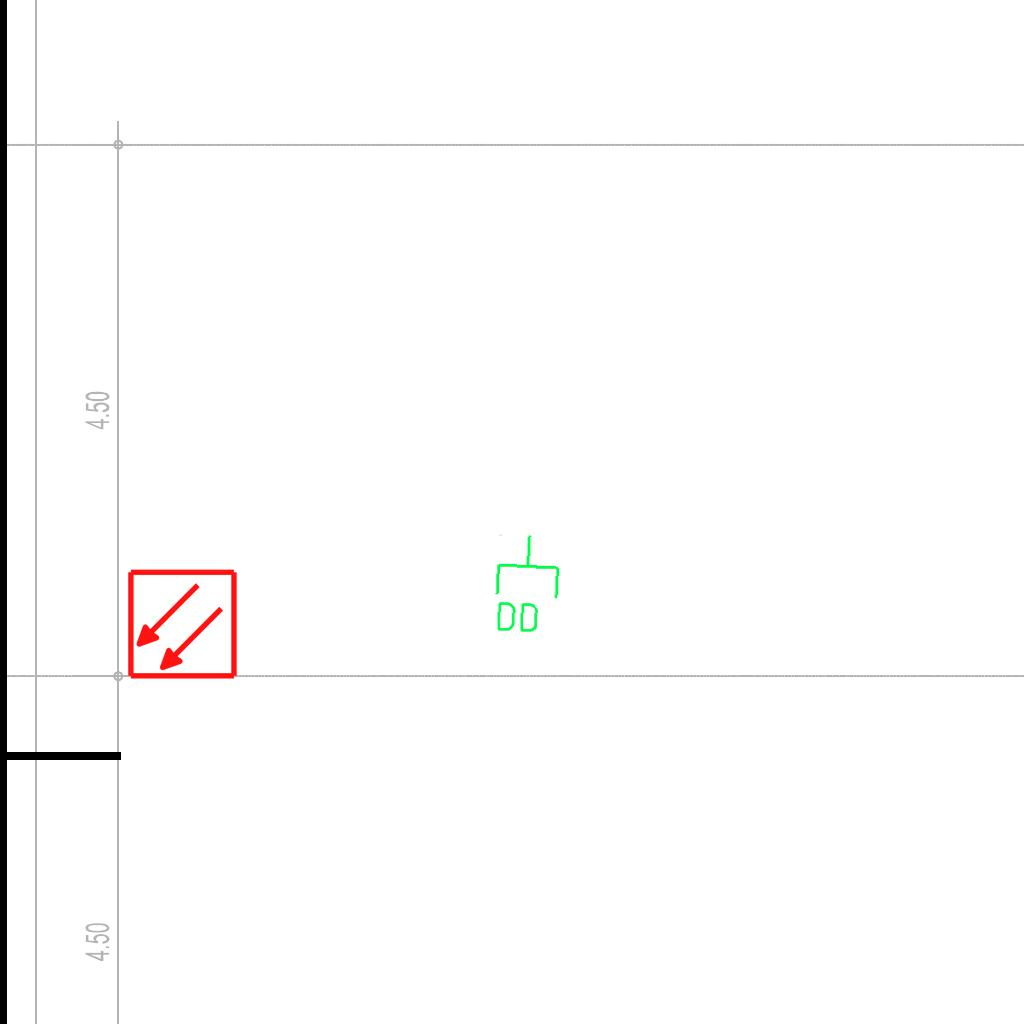Datenanschluss_zweifach: (489, 531, 564, 638)
RMO_Rauchmelder_optischer: (126, 568, 239, 681)
